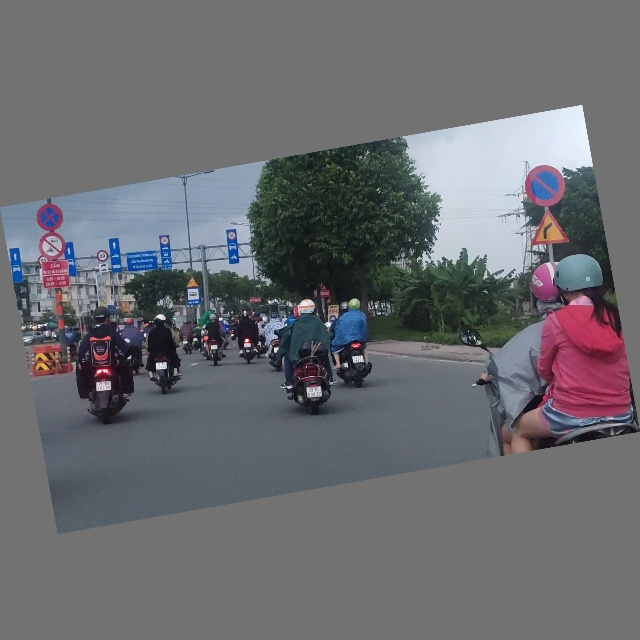I.434a: (185, 287, 202, 308)
P.111: (36, 230, 68, 263)
P.127*50: (160, 236, 170, 247), (227, 231, 237, 241)
P.127*60: (96, 250, 109, 263)
P.130: (34, 202, 65, 234)
P.131a: (521, 162, 569, 211)
S.505a*Xe tai va cong: (98, 263, 109, 275)
W.201b: (525, 205, 569, 249), (185, 276, 201, 290)
